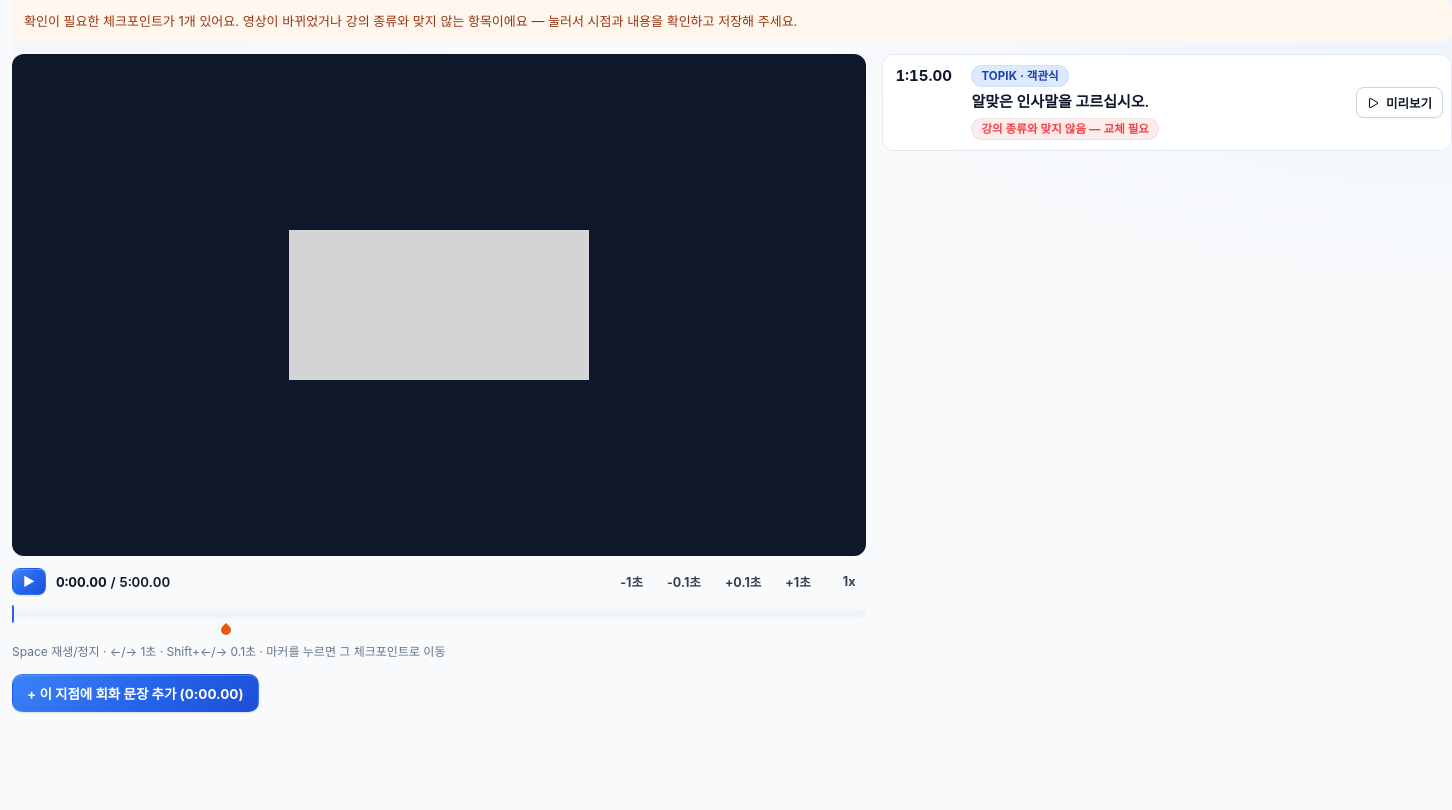
Test: CheckpointEditor › flags a checkpoint whose content does not fit the lecture and has it replaced
This screenshot has width=1452, height=810.
Expected: the message shows "확인이 필요한 체크포인트가 1개", 12,0 -> 1451,42
Expected: the text "강의 종류와 맞지 않음 — 교체 필요" is shown, 971,118 -> 1159,140
Click the button "1:15.00 TOPIK · 객관식 알맞은 인사말을 고르십시오. 강의 종류와 맞지 않음 — 교체 필요": (1118, 103) 883,55 -> 1352,150
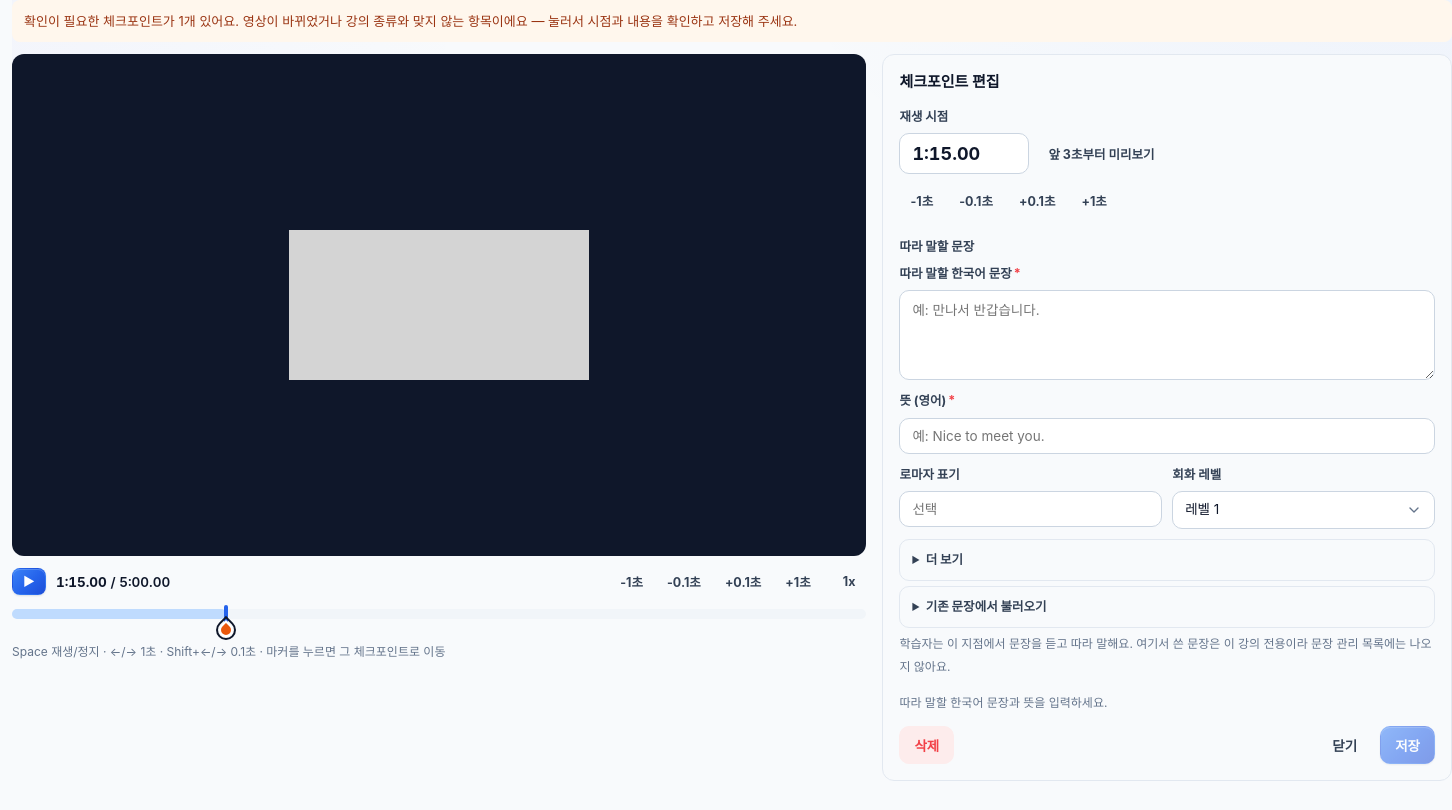
Expected: the text box named "따라 말할 한국어 문장" is empty, 899,290 -> 1435,380
Expected: the button "저장" is disabled, 1380,726 -> 1435,764
